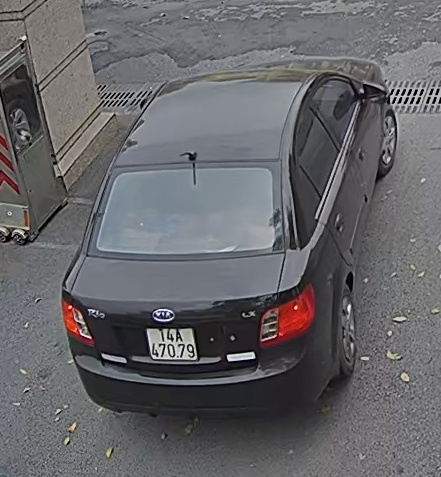vehicle plate: (138, 317, 203, 365)
